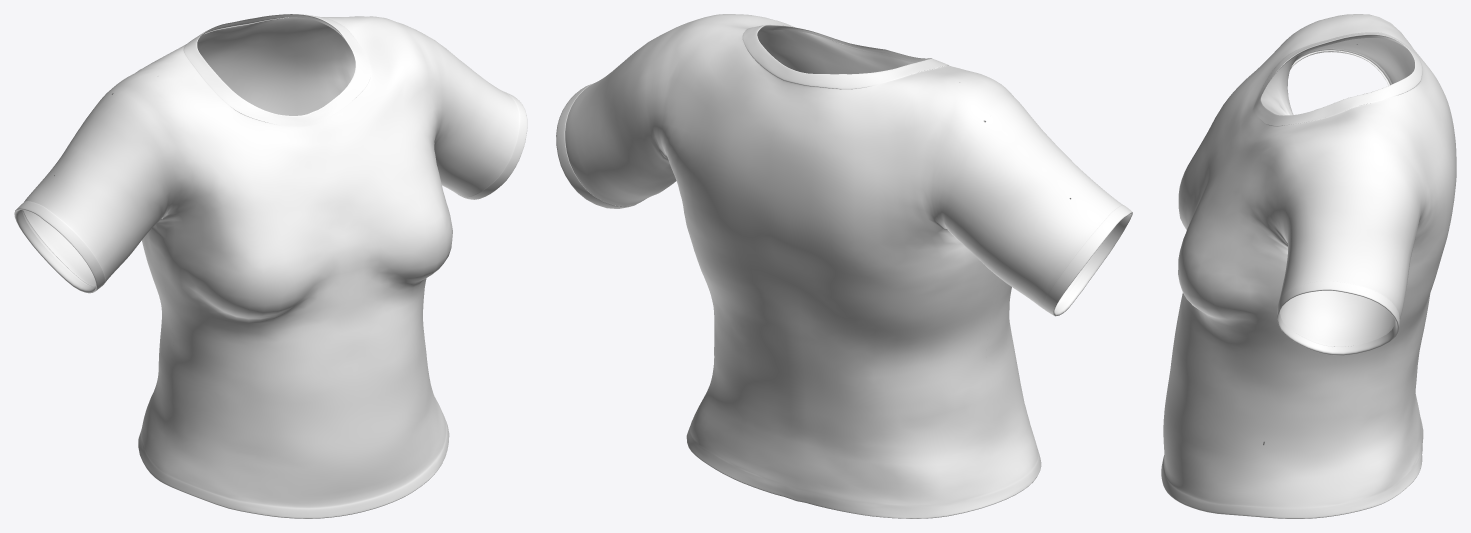
File: Shirt.glb
3 views of the same model, side by side, from view 1: azimuth 30°, elevation 25°; view 2: azimuth 150°, elevation 25°; view 3: azimuth 270°, elevation 25° (orthographic). The views are drawn at different scales.
Visible parts, largest first — view 1: TShirt_for_Genesis.002; view 2: TShirt_for_Genesis.002; view 3: TShirt_for_Genesis.002.
Boxes of the visible parts, left/top/right/bottom form: TShirt_for_Genesis.002: left=14, top=14, right=527, bottom=518; TShirt_for_Genesis.002: left=556, top=14, right=1132, bottom=518; TShirt_for_Genesis.002: left=1161, top=14, right=1456, bottom=518.
Size of the model in its own units: 12.84 by 10.29 by 6.71.
1 material, 1 textured.
